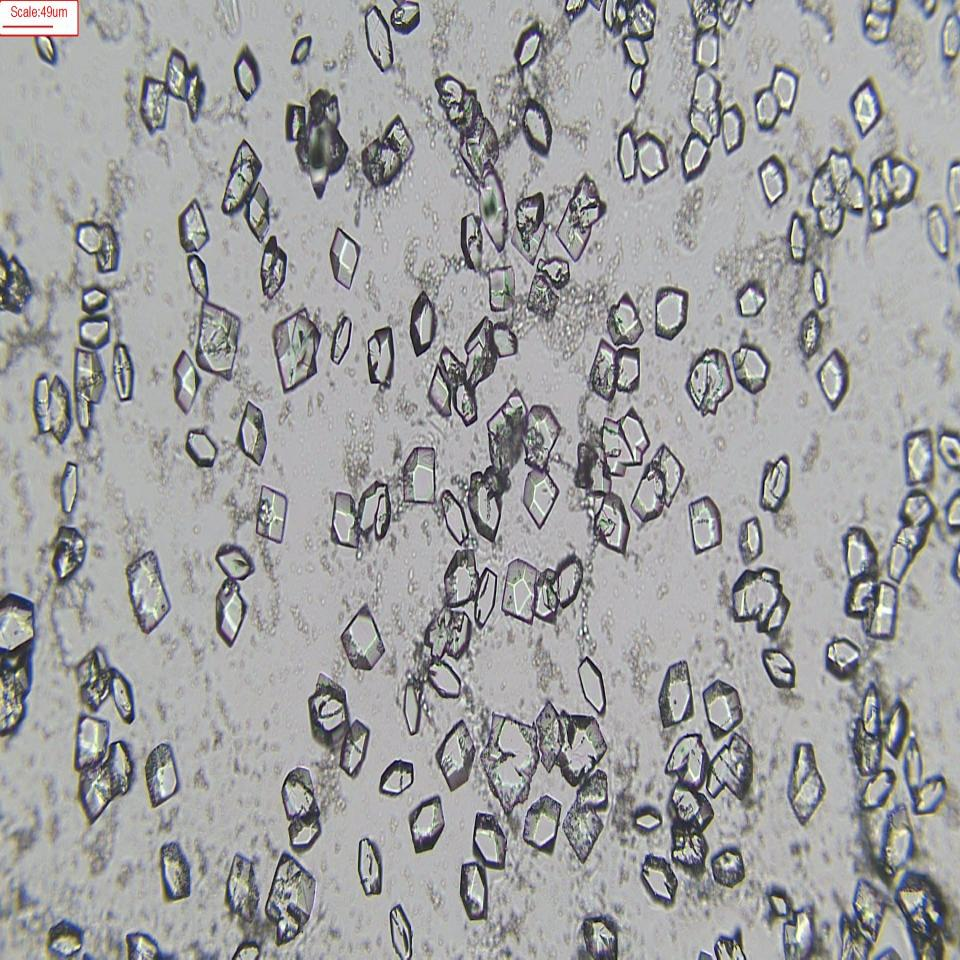crystal: (478, 713, 538, 819), (124, 550, 168, 633), (195, 299, 240, 380), (272, 311, 317, 391), (787, 741, 828, 824), (462, 464, 503, 543), (397, 438, 440, 513), (685, 348, 729, 417), (340, 604, 384, 672), (222, 140, 262, 214), (303, 682, 347, 747), (231, 396, 271, 466), (360, 0, 396, 77), (250, 480, 292, 545), (213, 574, 248, 650), (436, 720, 474, 790), (362, 320, 398, 393), (73, 346, 106, 424), (33, 373, 70, 442), (524, 403, 562, 469), (501, 560, 539, 626), (658, 659, 693, 730), (686, 493, 724, 558), (224, 852, 260, 920), (442, 545, 479, 611), (591, 493, 629, 556), (144, 741, 179, 808), (522, 794, 561, 854), (521, 467, 558, 530), (384, 896, 420, 960), (472, 809, 511, 868), (703, 678, 742, 736), (108, 340, 141, 406), (848, 70, 882, 134), (578, 907, 621, 957), (652, 281, 691, 336), (409, 795, 445, 854), (642, 850, 679, 907), (74, 712, 109, 772), (208, 541, 260, 581), (182, 420, 222, 472), (356, 480, 389, 543), (633, 126, 668, 185), (522, 94, 555, 156), (136, 74, 169, 136), (278, 773, 324, 817), (758, 151, 791, 212), (730, 338, 770, 388), (607, 291, 642, 347), (587, 337, 618, 400), (159, 841, 191, 902), (756, 643, 799, 688), (425, 654, 467, 700), (398, 674, 424, 748), (329, 226, 361, 286), (818, 349, 850, 409), (51, 525, 84, 583), (339, 720, 370, 780), (576, 660, 608, 716), (409, 293, 438, 354), (229, 50, 265, 99), (904, 427, 934, 485), (330, 492, 359, 552), (109, 668, 138, 728), (439, 484, 470, 540), (925, 195, 950, 264), (285, 814, 330, 852), (260, 236, 287, 299), (459, 861, 487, 921), (172, 350, 198, 414), (760, 455, 789, 512), (178, 200, 208, 255), (514, 21, 547, 70), (44, 921, 87, 957), (738, 512, 768, 563), (357, 836, 382, 897), (615, 121, 638, 187), (184, 253, 214, 303), (57, 455, 81, 517), (460, 211, 484, 272), (712, 846, 746, 889), (614, 345, 645, 392), (680, 132, 710, 180), (378, 758, 414, 798), (246, 180, 272, 235), (488, 264, 516, 315), (328, 311, 353, 367), (826, 637, 861, 677), (73, 218, 106, 260), (860, 766, 895, 805), (476, 565, 496, 632), (771, 66, 798, 114), (751, 87, 781, 130), (630, 800, 664, 837), (788, 206, 809, 261), (798, 308, 822, 356), (886, 696, 906, 753), (721, 104, 744, 153), (284, 94, 307, 142), (738, 281, 766, 319), (694, 28, 719, 70), (388, 0, 422, 30), (77, 284, 109, 314), (33, 28, 59, 63), (290, 36, 314, 68), (627, 62, 648, 98), (811, 267, 829, 306), (770, 888, 790, 920)
not_crystal: (439, 83, 501, 190), (301, 84, 353, 195), (441, 342, 502, 414), (887, 493, 935, 576), (733, 569, 788, 637), (557, 180, 602, 258), (813, 160, 865, 226), (364, 126, 417, 190), (867, 158, 919, 217), (707, 738, 754, 802), (597, 415, 650, 471)
